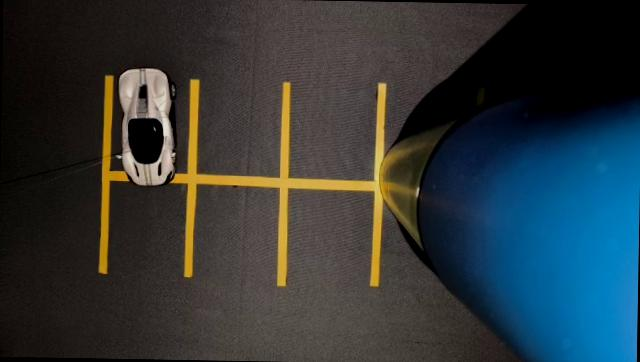toy_car: (99, 60, 208, 211)
